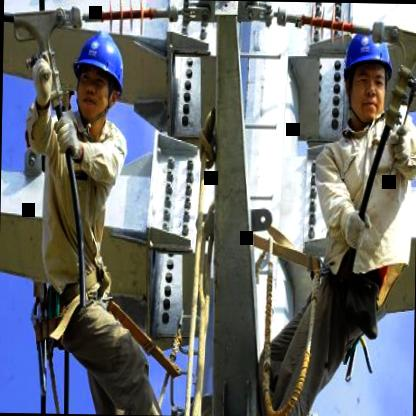helmet: (338, 25, 398, 130), (70, 22, 130, 127)
